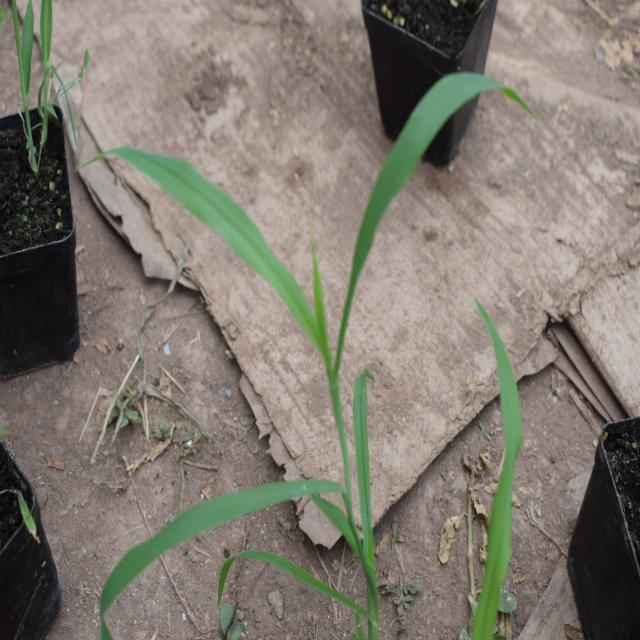crabgrass: (126, 57, 436, 608)
